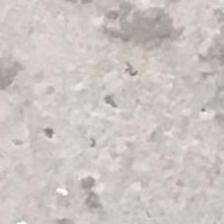Crack: (36, 18, 148, 192)
